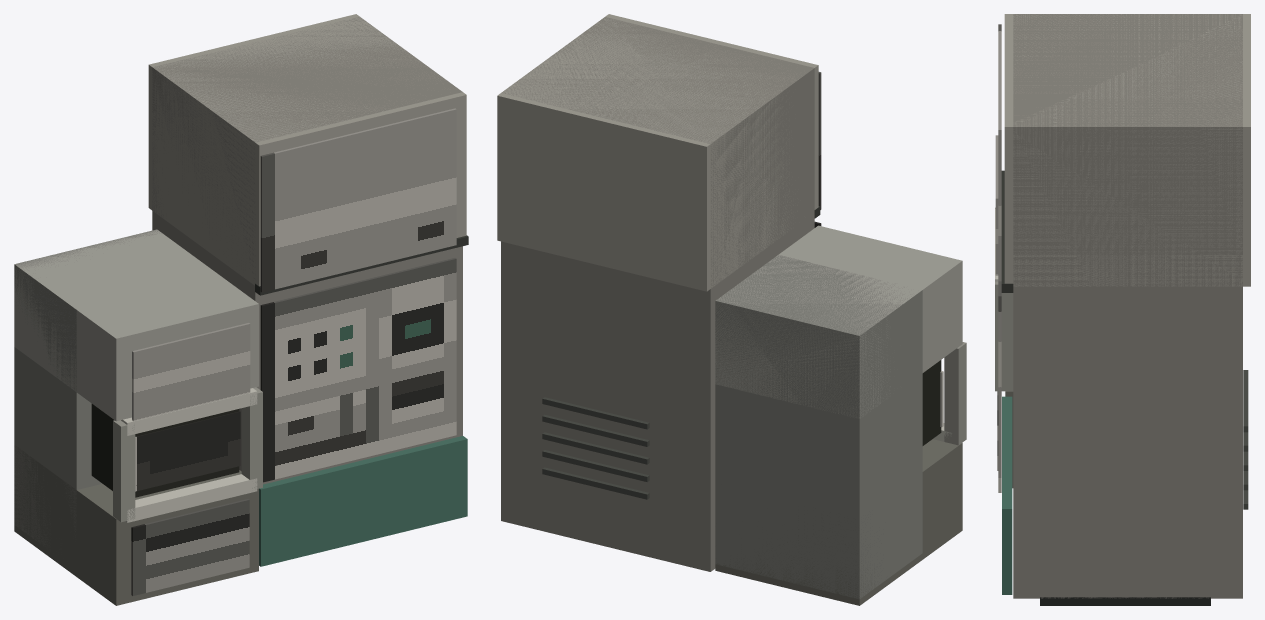
The model's file is CMU3DLimbPrinterCloud.glb.
The picture shows the model from 3 angles, left to right: view 1: azimuth 30°, elevation 25°; view 2: azimuth 150°, elevation 25°; view 3: azimuth 270°, elevation 25°; orthographic projection. The views are drawn at different scales.
Parts seen in each view (by area): view 1: original numbered controls and status display, main top hood, main cabinet solid body, original hood service latches, left module upper housing, main lower green material reservoir, stepped left growth module rear, left module lower plinth, left module original upper bands, left module original lower louvers, source-owned growth scan bar, left window lower frame (+5 smaller); view 2: main cabinet solid body, stepped left growth module rear, main top hood, left module upper housing, left module lower plinth, rear cooling grille (×5), left window left jamb, growth chamber recessed void; view 3: main cabinet solid body, main top hood, main lower green material reservoir, left window right jamb, separate rubber foot, original hood service latches, original numbered controls and status display, hood lower shadow seam, left module original upper bands, rear cooling grille.
Part boxes in pixels (<box>): original numbered controls and status display: <box>260,258,456,482</box>; main top hood: <box>148,14,466,286</box>; main cabinet solid body: <box>152,16,462,484</box>; original hood service latches: <box>260,108,456,292</box>; left module upper housing: <box>14,229,258,421</box>; main lower green material reservoir: <box>259,436,467,566</box>; stepped left growth module rear: <box>14,229,161,546</box>; left module lower plinth: <box>14,445,258,605</box>; left module original upper bands: <box>132,323,250,421</box>; left module original lower louvers: <box>131,499,249,595</box>; source-owned growth scan bar: <box>135,411,240,491</box>; left window lower frame: <box>125,474,257,522</box>; main cabinet solid body: <box>501,17,814,571</box>; stepped left growth module rear: <box>715,255,922,599</box>; main top hood: <box>497,14,818,291</box>; left module upper housing: <box>715,225,962,418</box>; left module lower plinth: <box>715,439,962,605</box>; rear cooling grille (×5): <box>542,397,649,499</box>; left window left jamb: <box>944,342,966,445</box>; growth chamber recessed void: <box>922,360,941,445</box>; main cabinet solid body: <box>1013,14,1242,598</box>; main top hood: <box>1004,14,1250,286</box>; main lower green material reservoir: <box>1002,396,1012,594</box>; left window right jamb: <box>995,281,1013,391</box>; separate rubber foot: <box>1040,597,1210,605</box>; original hood service latches: <box>998,24,1001,281</box>; original numbered controls and status display: <box>998,281,1001,492</box>; hood lower shadow seam: <box>1001,170,1013,292</box>; left module original upper bands: <box>995,135,998,275</box>; rear cooling grille: <box>1243,370,1248,432</box>.
Size of what is drawn, in the model's own units: 0.845 by 0.99 by 0.479.
Materials: 17 (5 with a texture image).
